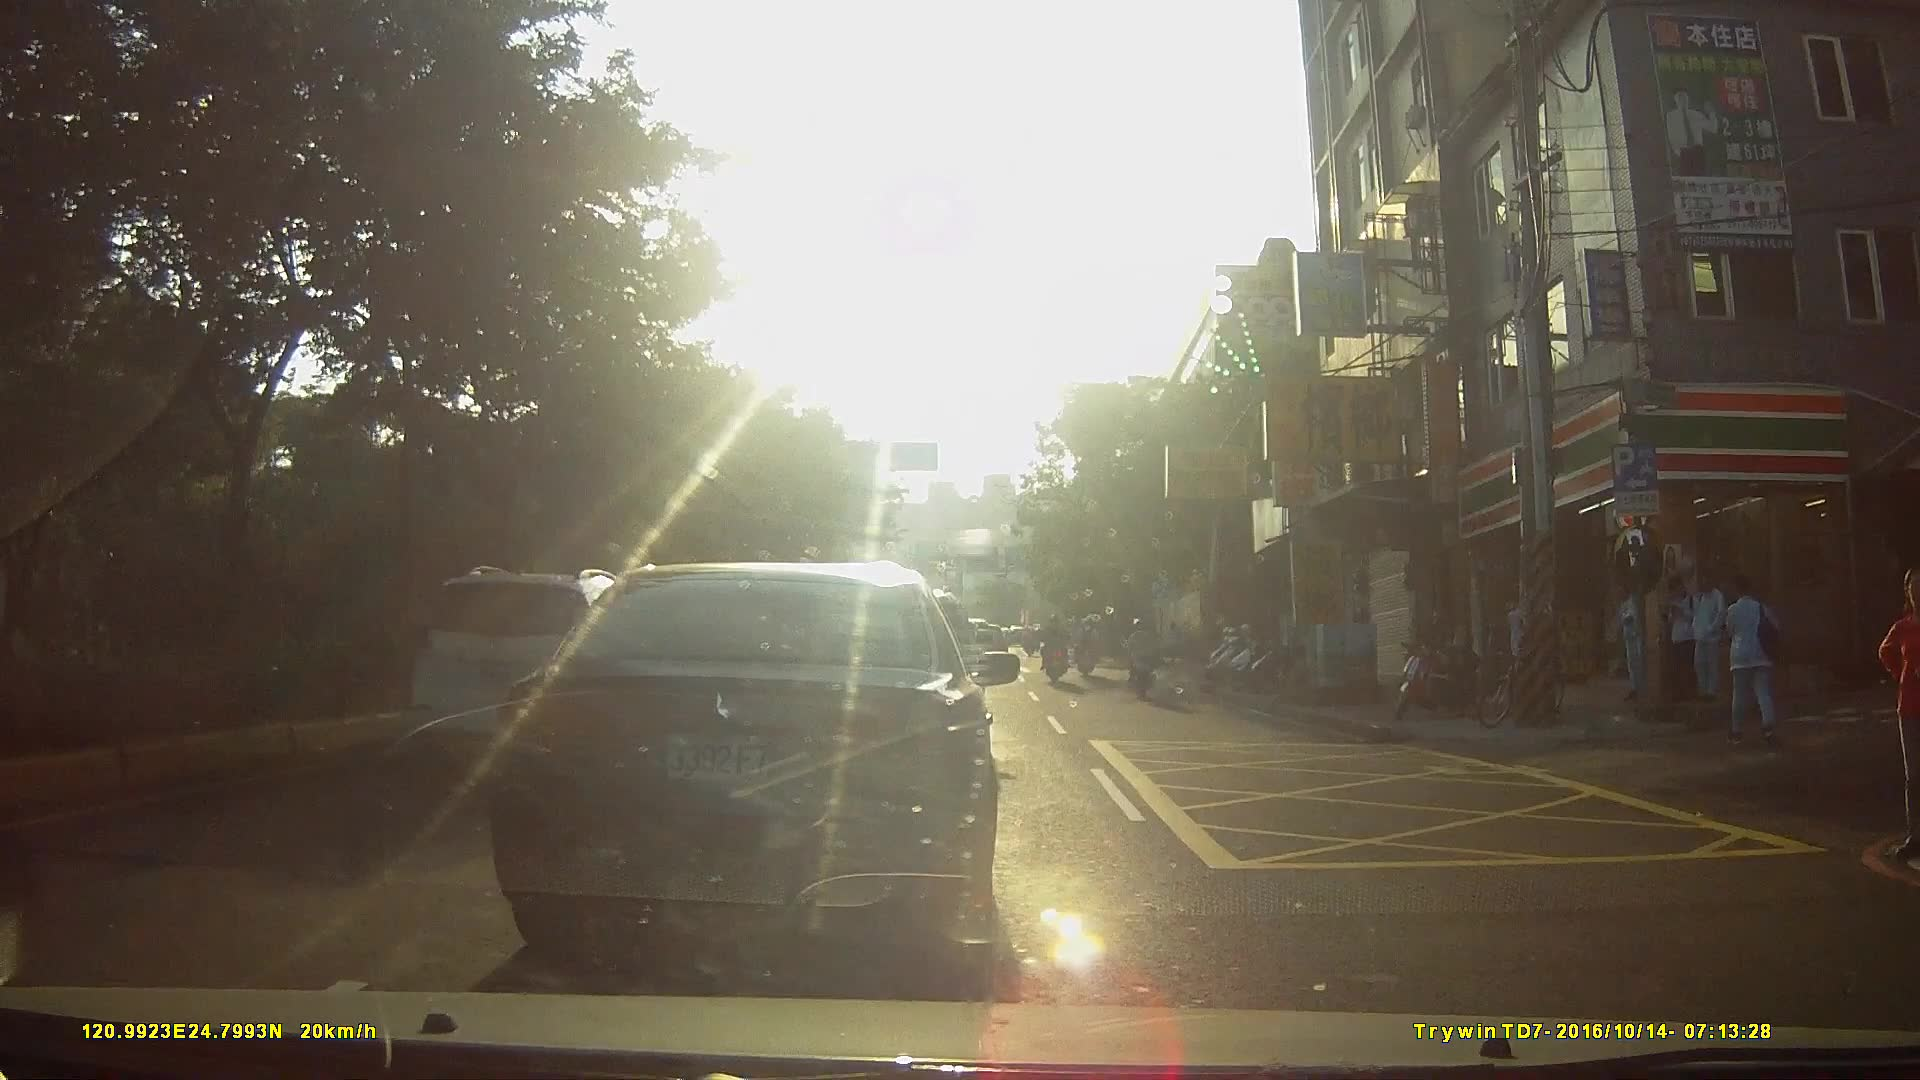pedestrian: (1876, 567, 1920, 854), (1719, 577, 1788, 755), (1680, 569, 1726, 703), (1658, 567, 1695, 709), (1616, 580, 1655, 708), (1507, 592, 1548, 706)
rider: (1125, 617, 1161, 704), (1040, 613, 1072, 686), (1073, 616, 1103, 678), (1020, 624, 1040, 658)
vehicle: (482, 554, 1030, 980), (378, 554, 674, 779)
